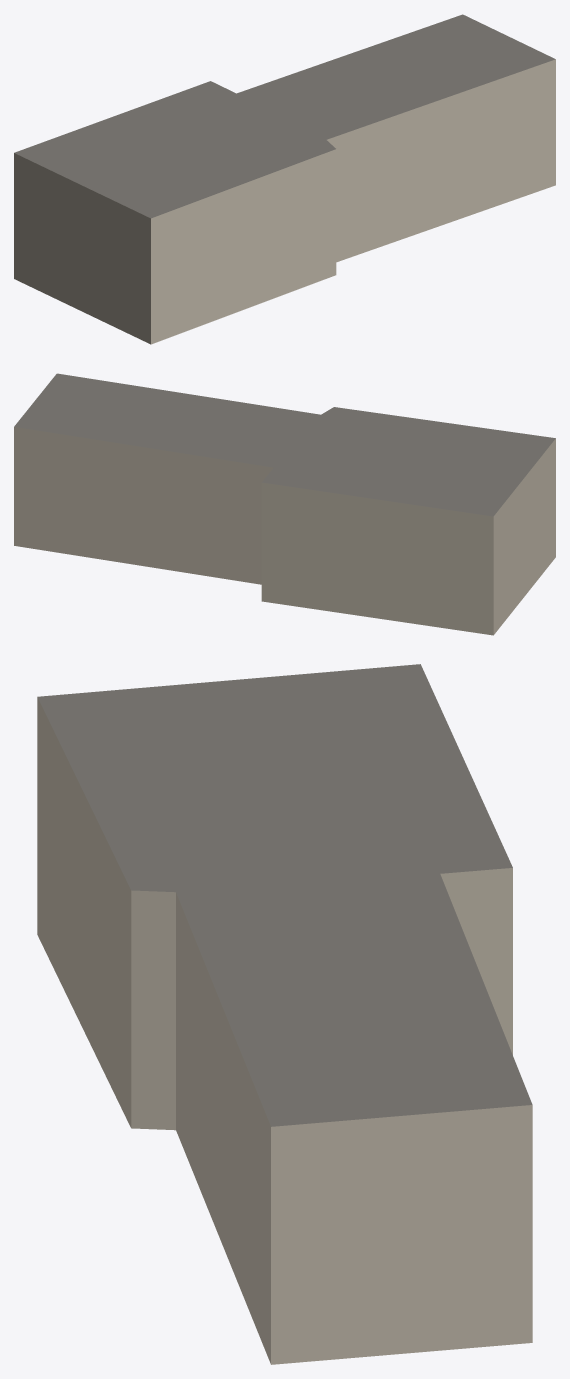
The picture shows the model from 3 angles, top to bottom: view 1: azimuth 30°, elevation 25°; view 2: azimuth 150°, elevation 25°; view 3: azimuth 270°, elevation 25°; orthographic projection. The views are drawn at different scales.
Visible parts, largest first — view 1: HP-w1512800277; view 2: HP-w1512800277; view 3: HP-w1512800277.
Part boxes in pixels (x1,y1,x2,y2): HP-w1512800277: (14,14,555,344); HP-w1512800277: (14,373,555,635); HP-w1512800277: (37,664,532,1364).
Bounding box in the file's own units: 75.06 × 18 × 33.95.
